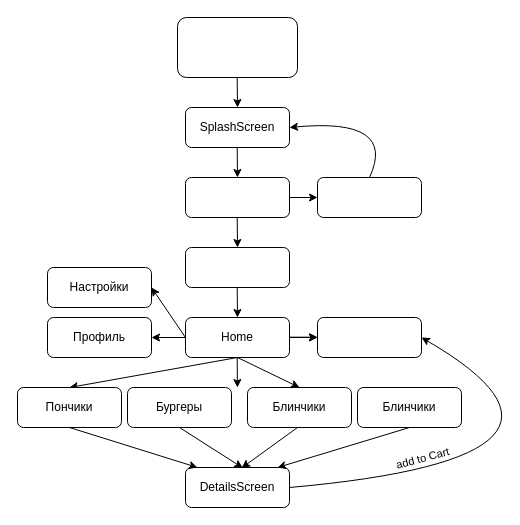
This 520x525 diagram has some shape labels left out. The shapes that lost their labels are listed below. From the top down, each one's centre as x and y in pixels, then its label:
At point 237,47: "MyApp(cookies)".
At point 237,197: "SignIn".
At point 369,197: "SignUp".
At point 237,267: "LoginSuccess".
At point 369,337: "Cart".
